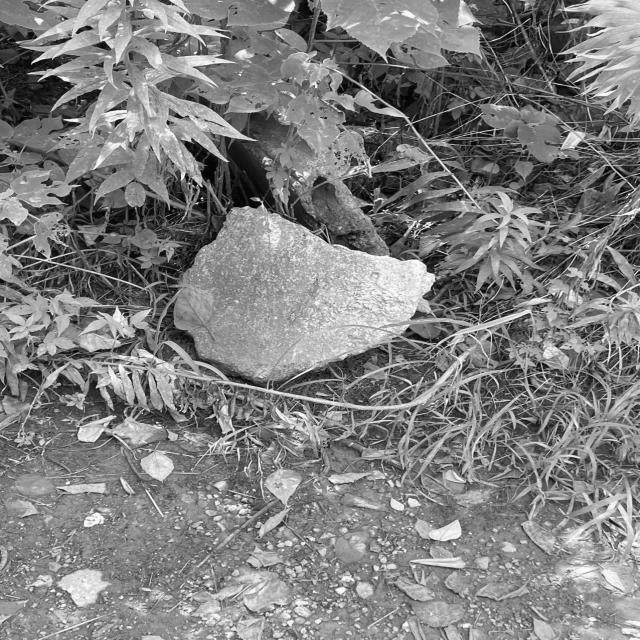Stone: (175, 207, 434, 382)
